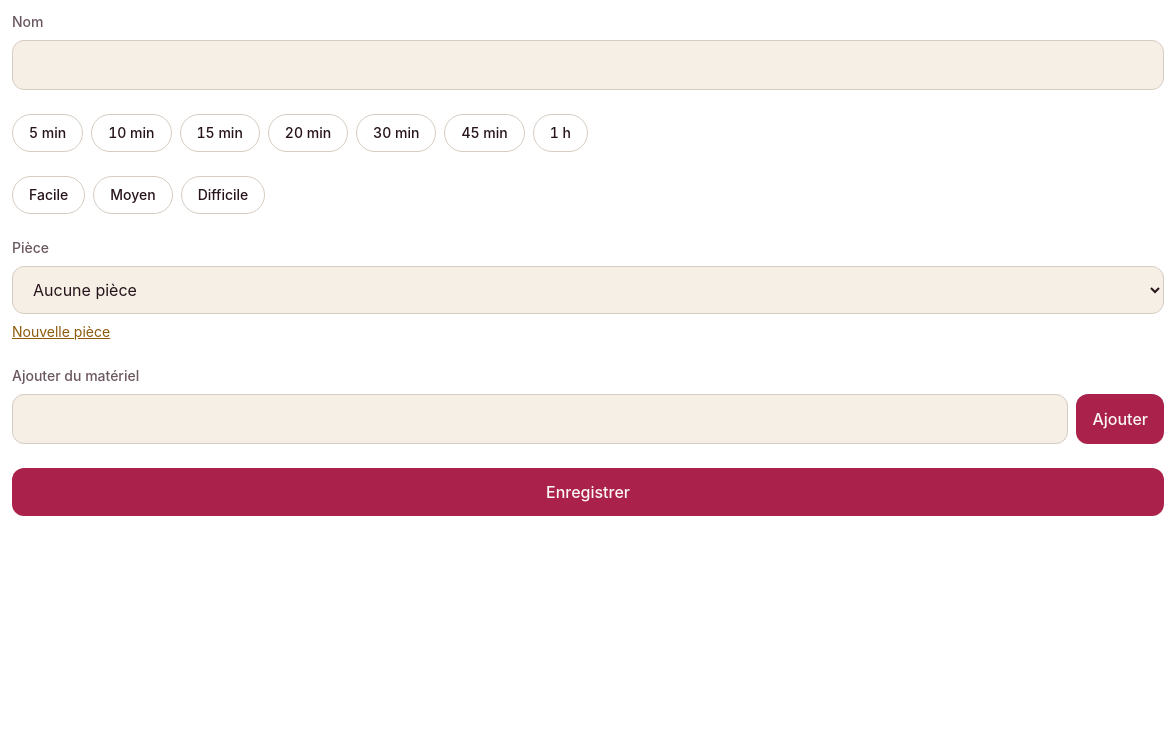
it: TaskForm › shows the validation message instead of submitting an unnamed task
This screenshot has width=1176, height=732.
Click the button "Enregistrer". click: (588, 492)
box: [12,468,1164,516]
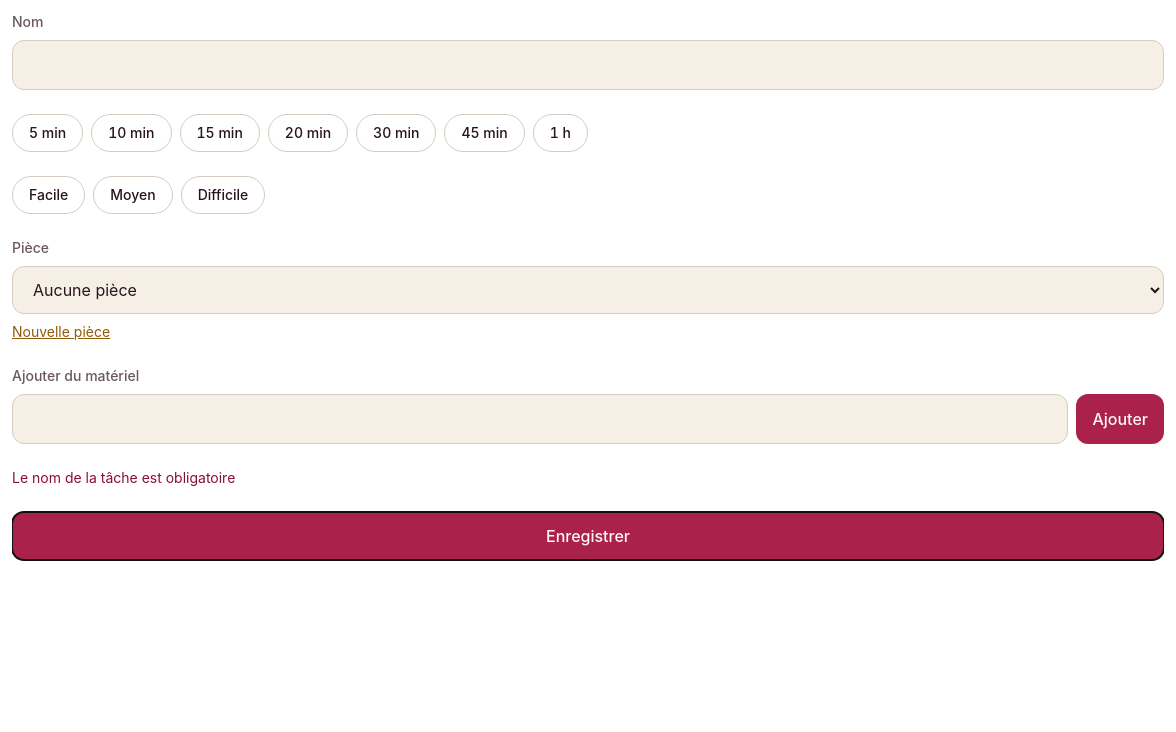
Expected: the message reads "Le nom de la tâche est obligatoire", [12,469,235,486]
